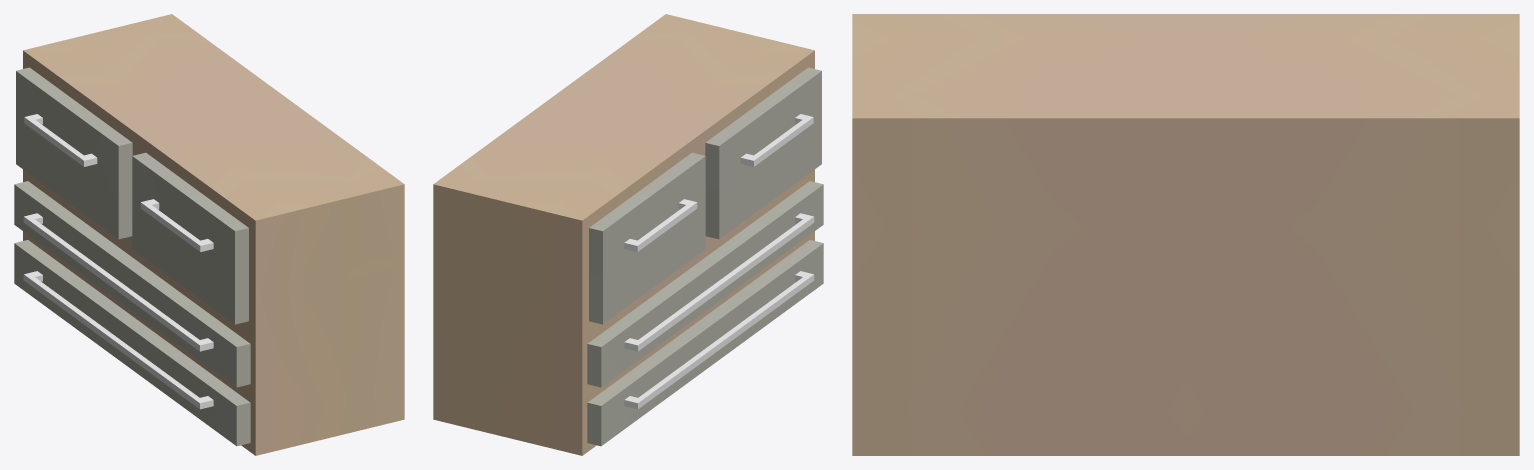
Rendered from tumba.fbx.
3 renders of one model, left to right at view 1: azimuth 30°, elevation 25°; view 2: azimuth 150°, elevation 25°; view 3: azimuth 270°, elevation 25°, orthographic. The views are drawn at different scales.
Parts seen in each view (by area): view 1: Cube.008; view 2: Cube.008; view 3: Cube.008.
Boxes of the visible parts, x1,y1,x2,y2 form: Cube.008: (14, 14, 404, 455); Cube.008: (433, 14, 823, 455); Cube.008: (852, 14, 1519, 455).
Size of the model in its own units: 157 by 200 by 358.
